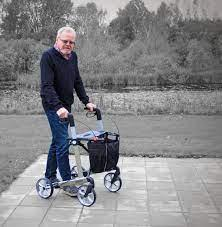walking_frame: (36, 27, 122, 207)
